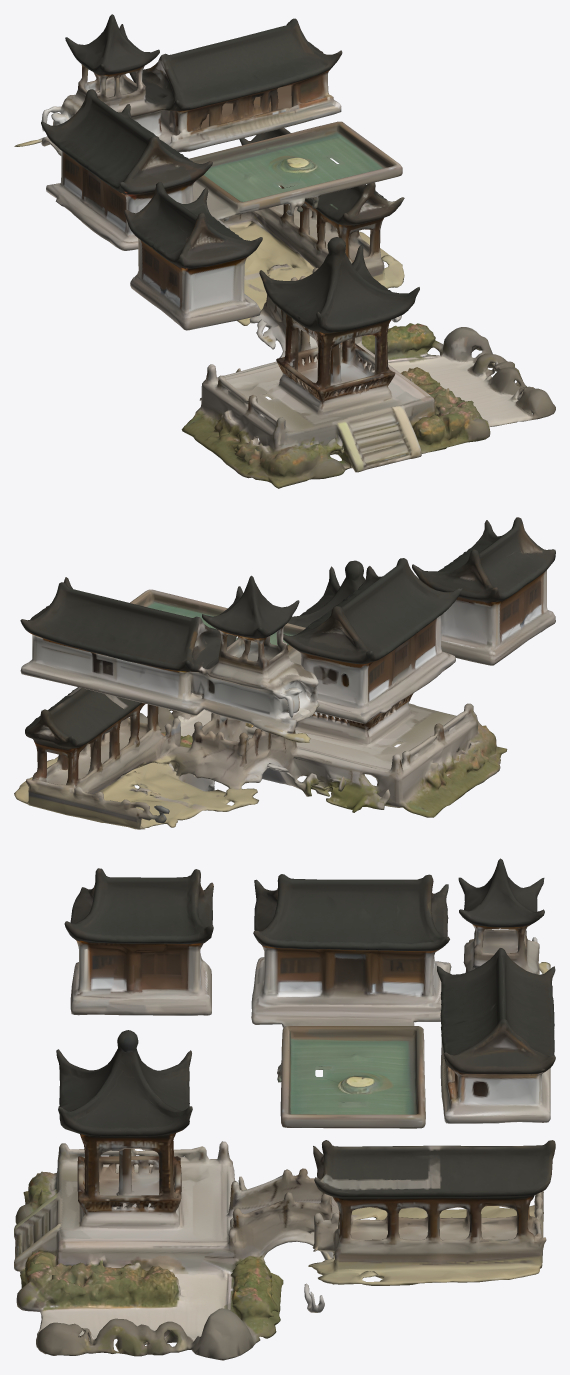
3 views of the same model, one above another, from view 1: azimuth 30°, elevation 25°; view 2: azimuth 150°, elevation 25°; view 3: azimuth 270°, elevation 25° (orthographic). The views are drawn at different scales.
Visible parts, largest first — view 1: material.001; view 2: material.001; view 3: material.001.
Part boxes in pixels (bbox=[...]): material.001: bbox=[14, 14, 555, 488]; material.001: bbox=[14, 517, 555, 829]; material.001: bbox=[14, 858, 555, 1360].
Size of the model in its own units: 0.778 by 0.6269 by 0.8545.
Materials: 1 (1 with a texture image).
